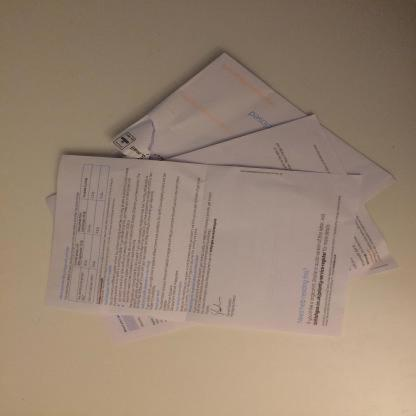Paper: (45, 114, 398, 346), (44, 154, 362, 337), (108, 53, 396, 205)
